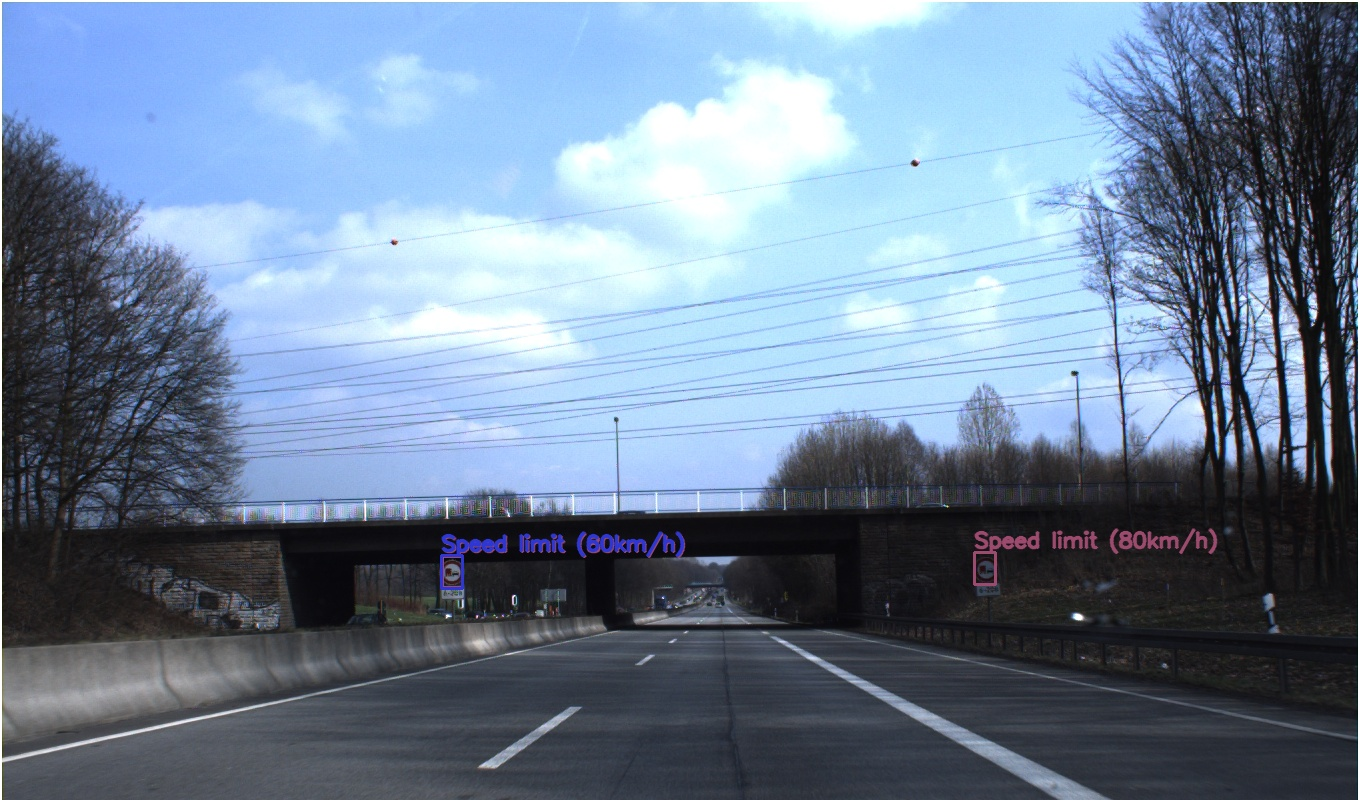Speed limit (50km/h): (857, 379, 894, 416)
